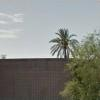Palm tree: (45, 22, 85, 64)
